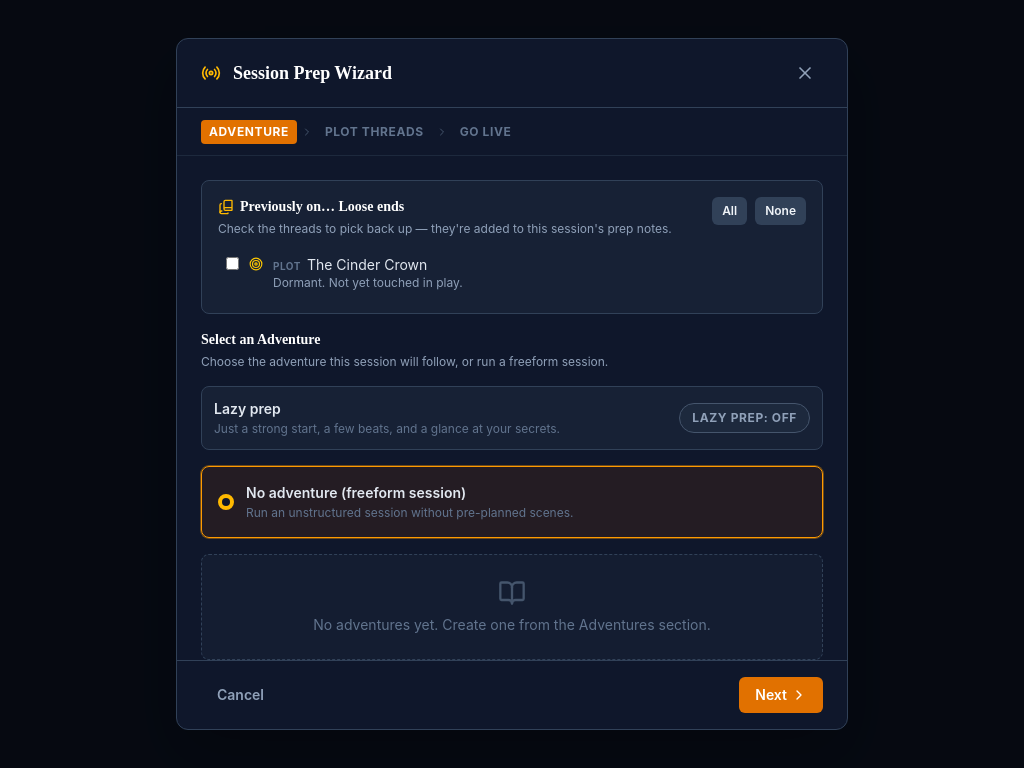
Test: "Drop into action" has no material precondition › sits alongside "Reincorporate" once there is something dormant too
Click the button "Lazy prep: off". click: click(745, 418)
box: [679, 403, 810, 433]
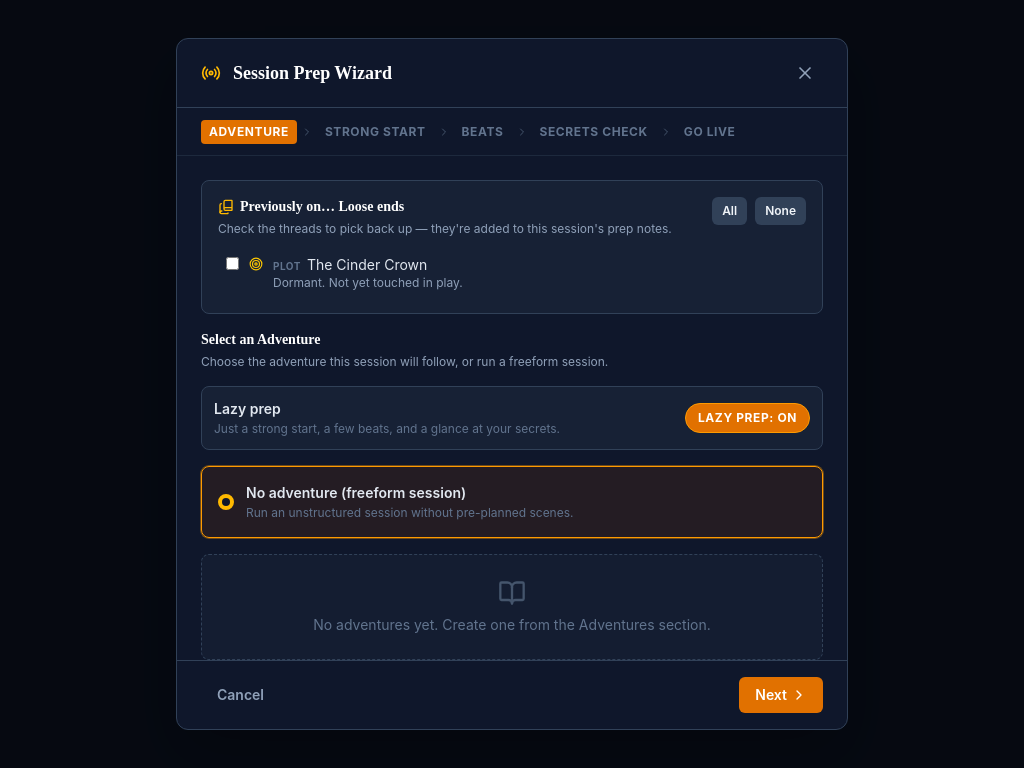
Click the button "Strong Start". click: click(375, 132)
box: [317, 120, 434, 144]
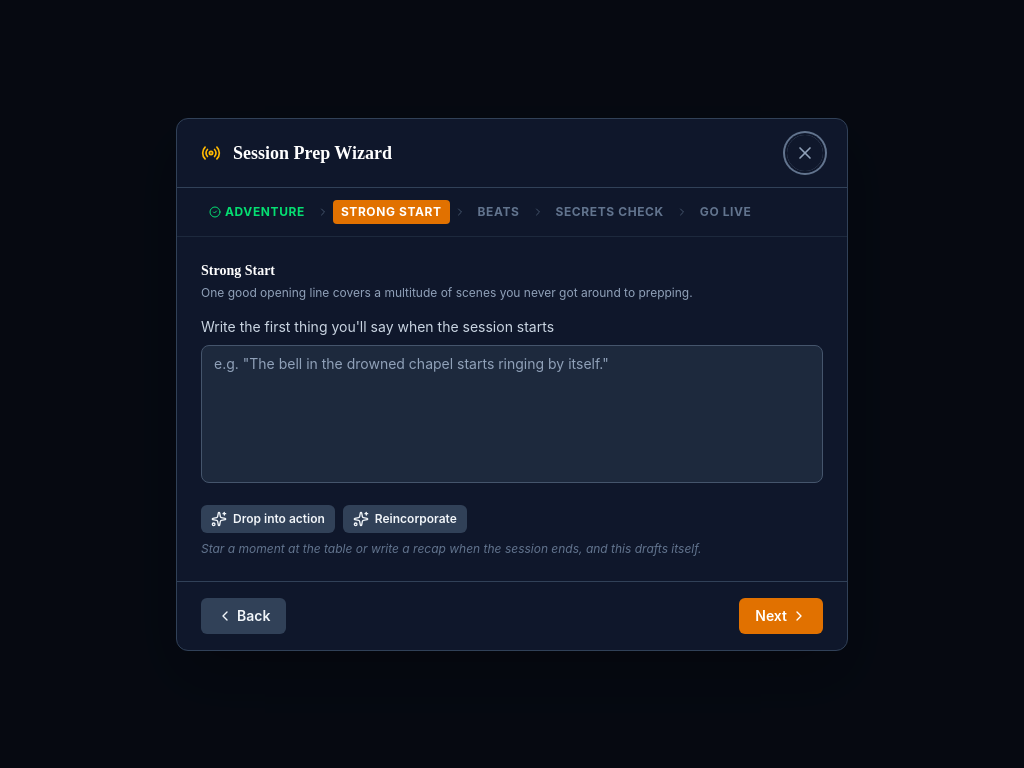
Now the button "Drop into action" is shown, box [201, 504, 335, 532]
Now the button "Reincorporate" is shown, box [343, 504, 467, 532]
